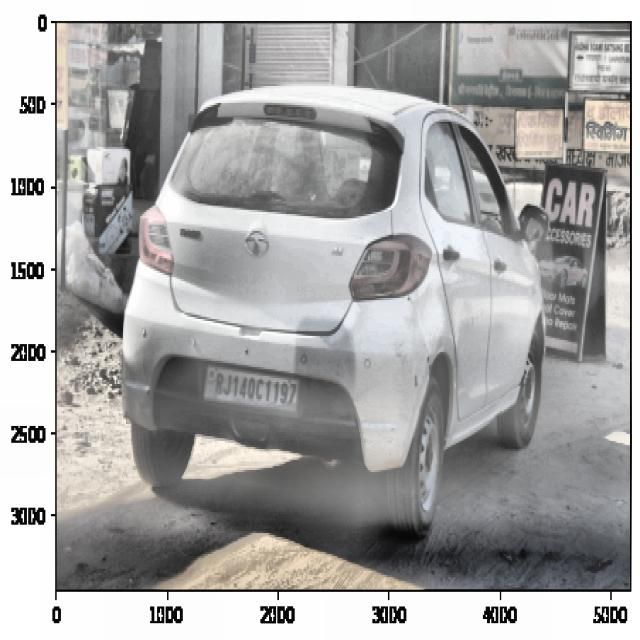license_plate: (210, 366, 300, 415)
